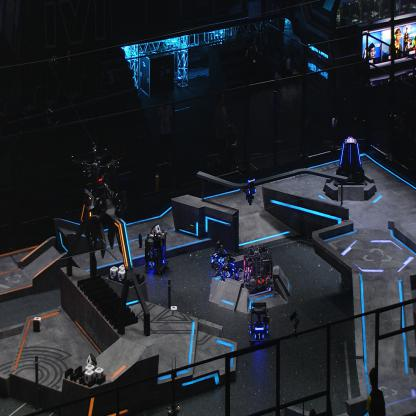car: (242, 242, 273, 293), (144, 228, 168, 274), (248, 300, 270, 343), (209, 239, 230, 270), (219, 252, 240, 281)
